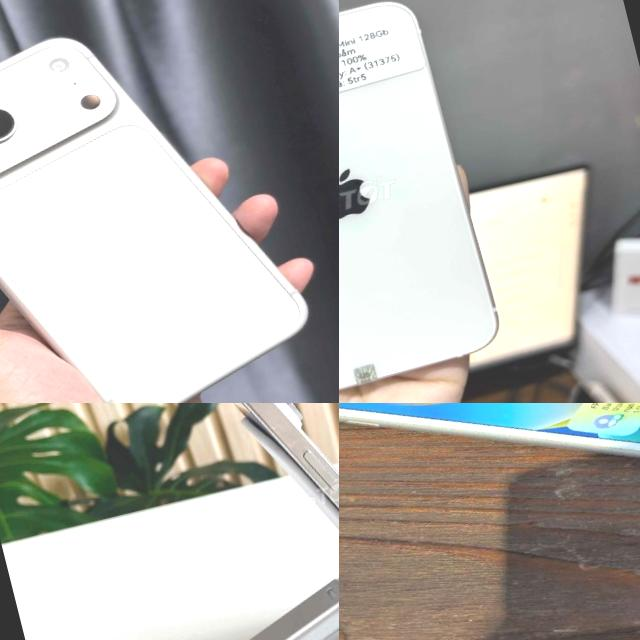gen_12_13: (339, 0, 512, 403)
gen_16: (165, 403, 339, 640)
gen_17: (0, 0, 339, 403)
gen_7_8: (339, 403, 640, 580)
